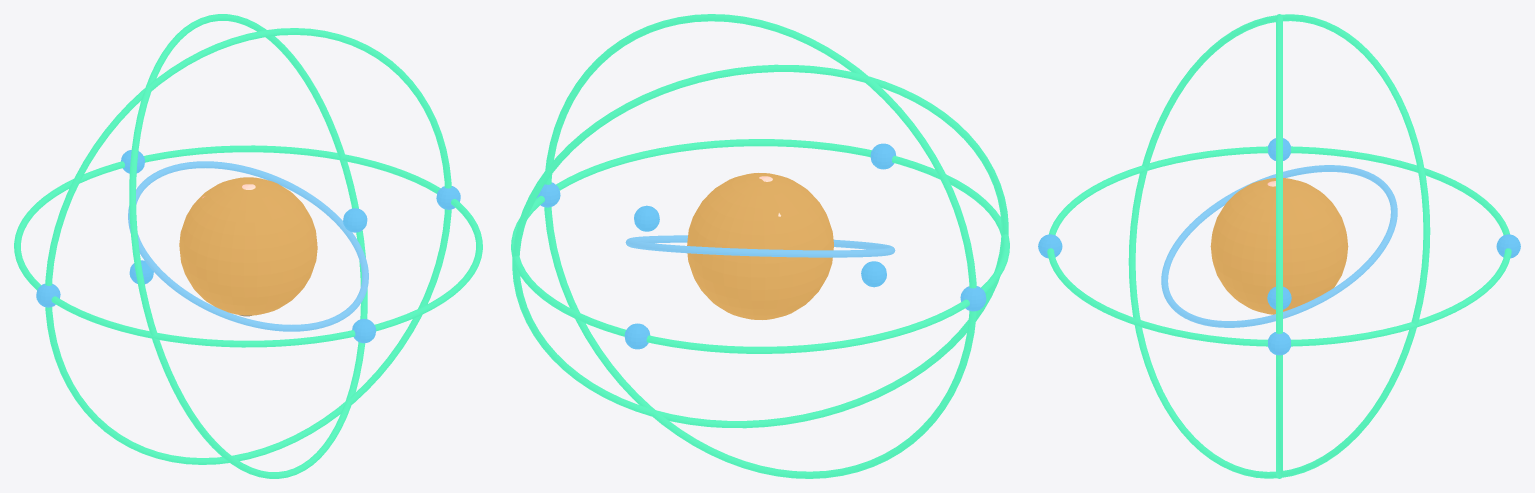
File: Carbon_Atom_3D.glb
The picture shows the model from 3 angles, left to right: view 1: azimuth 30°, elevation 25°; view 2: azimuth 150°, elevation 25°; view 3: azimuth 270°, elevation 25°; orthographic projection. The views are drawn at different scales.
Parts seen in each view (by area): view 1: NucleusAura, Shell2_B, Shell2_C, Shell2_A, Shell1_A, E1_1; view 2: NucleusAura, Shell2_B, Shell2_C, Shell2_A, Shell1_A, E1_1, E1_2, E2_3, E2_4; view 3: NucleusAura, Shell2_C, Shell2_A, Shell1_A, Shell2_B.
Part boxes in pixels (<box>): NucleusAura: <box>179,177,317,315</box>; Shell2_B: <box>45,28,451,464</box>; Shell2_C: <box>129,14,367,478</box>; Shell2_A: <box>14,145,482,347</box>; Shell1_A: <box>128,161,368,331</box>; E1_1: <box>343,208,367,232</box>; NucleusAura: <box>687,173,833,319</box>; Shell2_B: <box>544,14,976,478</box>; Shell2_C: <box>512,64,1008,428</box>; Shell2_A: <box>511,139,1009,353</box>; Shell1_A: <box>625,235,895,257</box>; E1_1: <box>634,205,659,231</box>; E1_2: <box>861,261,886,287</box>; E2_3: <box>624,323,650,349</box>; E2_4: <box>870,143,896,169</box>; NucleusAura: <box>1210,178,1348,314</box>; Shell2_C: <box>1128,14,1430,478</box>; Shell2_A: <box>1047,146,1511,346</box>; Shell1_A: <box>1161,165,1397,327</box>; Shell2_B: <box>1276,14,1282,478</box>.
Bounding box in the file's own units: 6.32 × 6.09 × 6.32.
